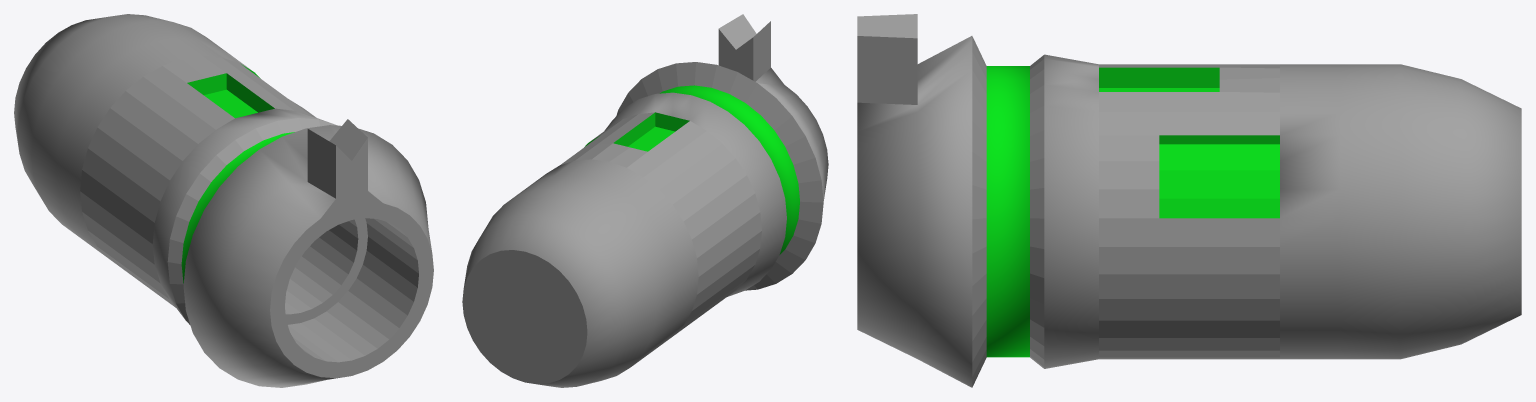
File: PlayerCannon.fbx
3 views of the same model, side by side, from view 1: azimuth 30°, elevation 25°; view 2: azimuth 150°, elevation 25°; view 3: azimuth 270°, elevation 25° (orthographic). The views are drawn at different scales.
Visible parts, largest first — view 1: PlayerCannon; view 2: PlayerCannon; view 3: PlayerCannon.
Boxes of the visible parts, x1,y1,x2,y2 form: PlayerCannon: [14, 14, 433, 387]; PlayerCannon: [462, 14, 828, 387]; PlayerCannon: [857, 14, 1521, 387].
Size of the model in its own units: 239 by 258 by 450.
